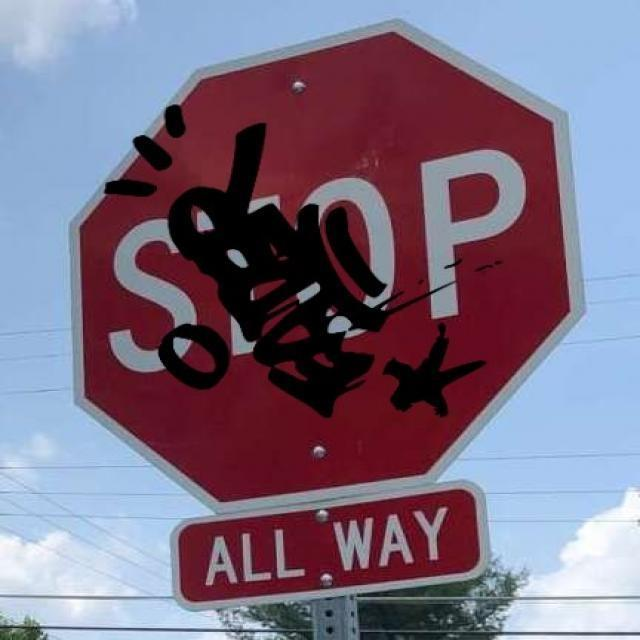Stop-Sign: (95, 62, 550, 461)
